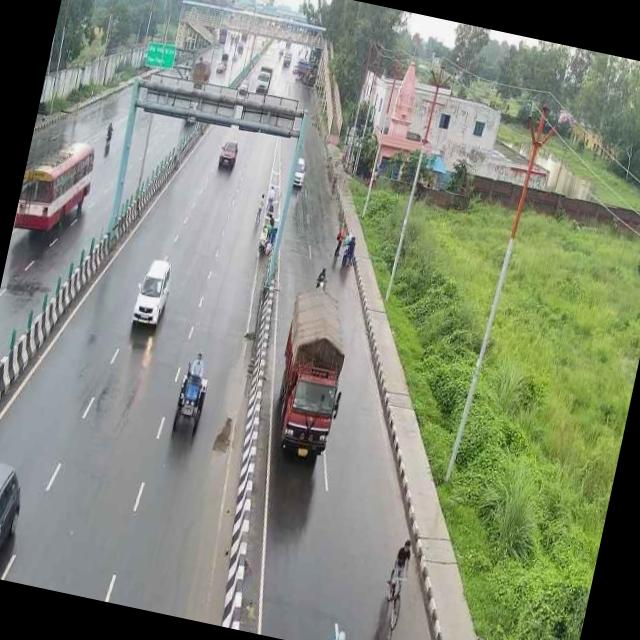car: (124, 246, 179, 340), (0, 447, 35, 579), (210, 130, 244, 178)
